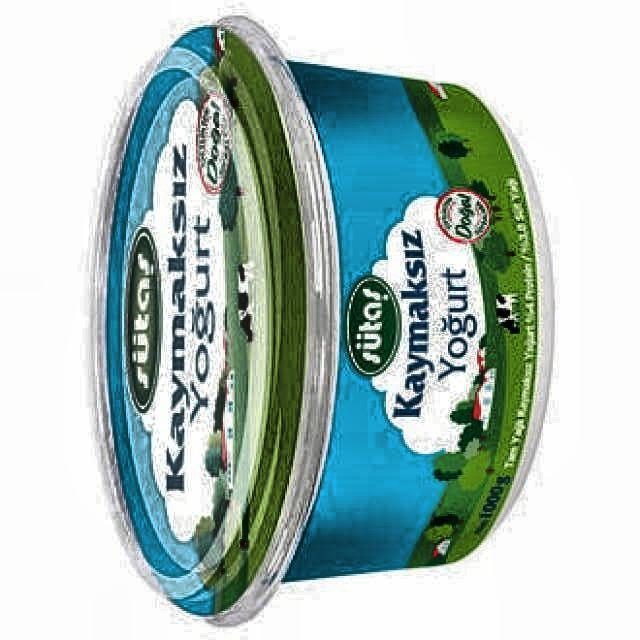plastic: (100, 19, 551, 622)
